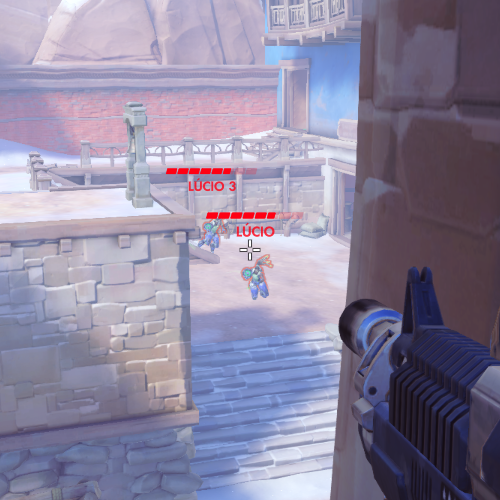hpbar: (205, 211, 305, 220), (165, 167, 258, 175)
